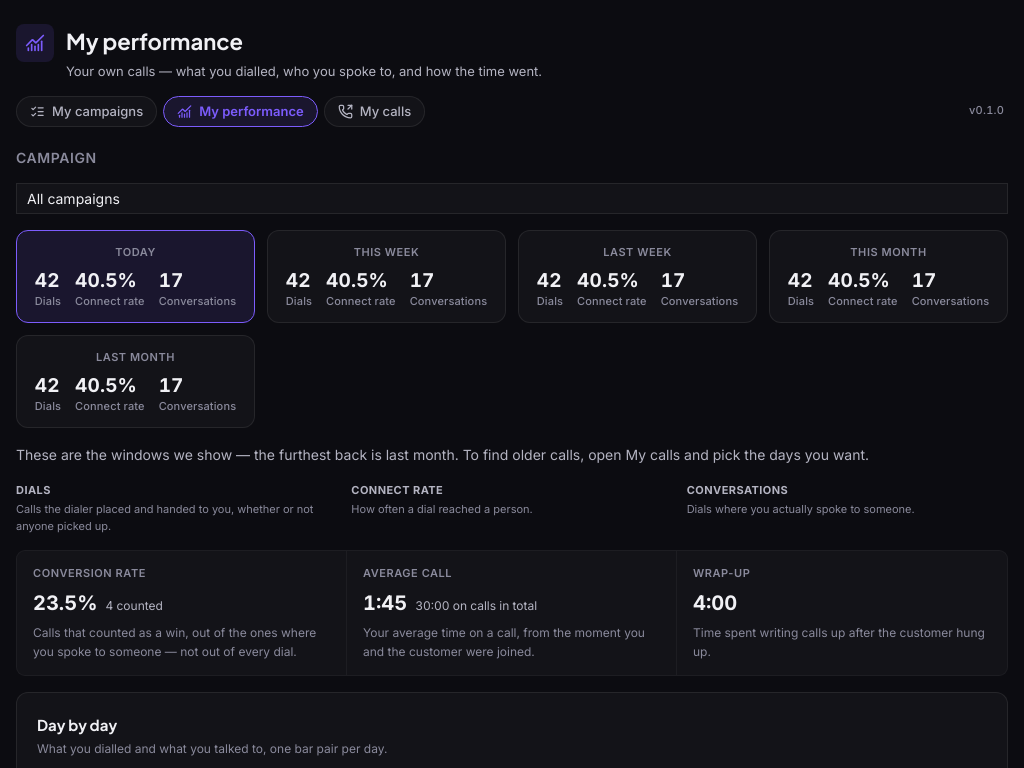
it: AgentPerformancePage — scoping the figures to one campaign › drops the campaign scope when the workspace changes underneath it
Select "Winback" in the dropdown with test id "campaign-scope": {"x": 512, "y": 199} [16,183,1008,214]
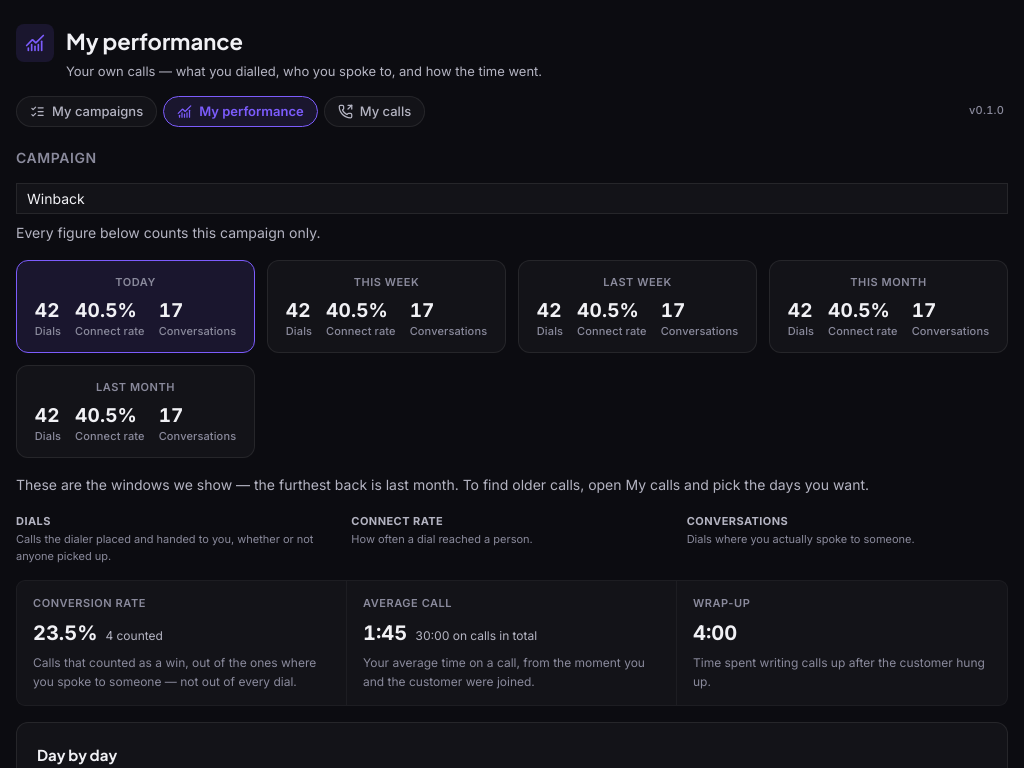
Check: the text "Every figure below counts this campaign only." is shown, box [16,222,320,244]
